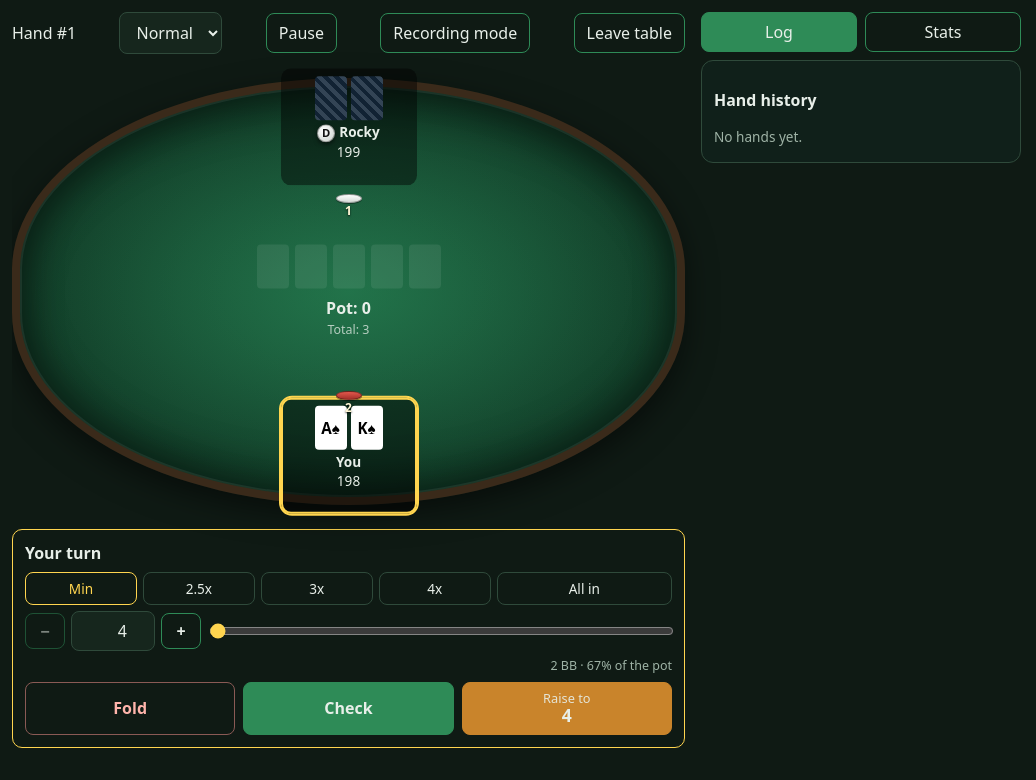
Test case: TableView › keeps the felt and one side panel on a wide screen
The width and height of the screenshot is (1036, 780).
Expected: the element with class "felt" is shown, [12,78,685,505]
Expected: the heading "Hand history" is shown, [714,89,817,111]
Click the button "Stats" at point(943, 32), box [865,12,1021,52]
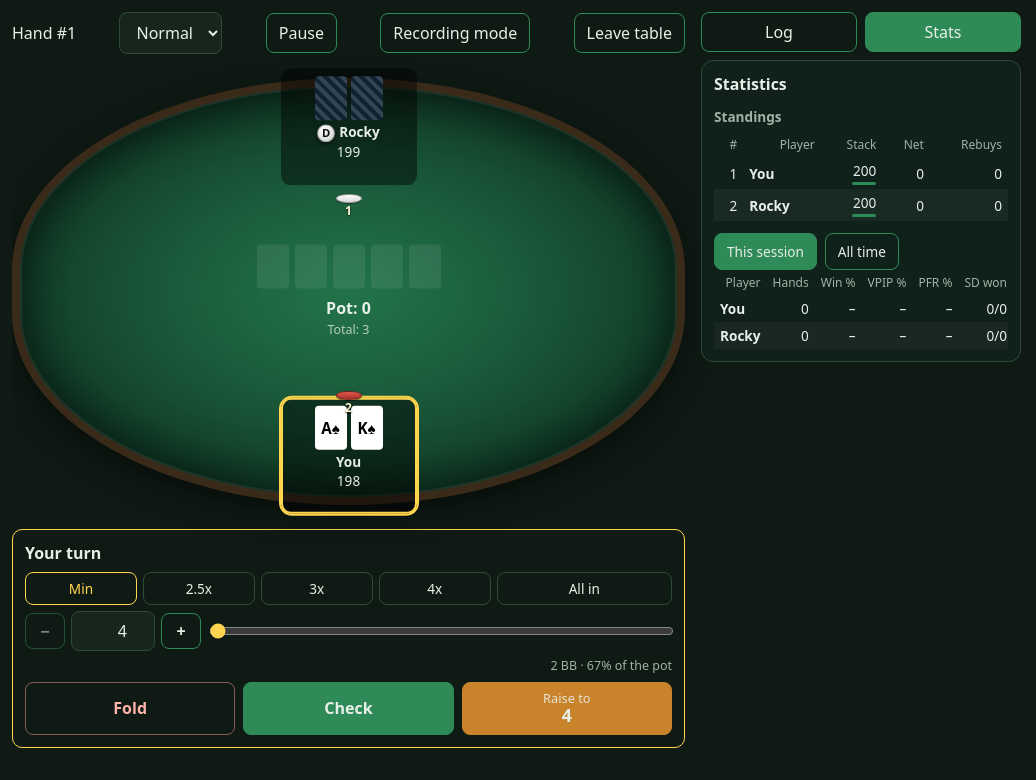
Expected: the element with class "felt" is shown, [12,78,685,505]
Expected: the heading "Statistics" is shown, [714,73,787,95]
Expected: the heading "Hand history" is gone
